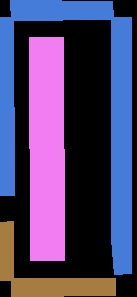parkingspot: (111, 17, 131, 274), (29, 37, 48, 260), (46, 37, 64, 260), (0, 17, 14, 195), (10, 0, 113, 20), (11, 278, 115, 296), (0, 221, 13, 280)
